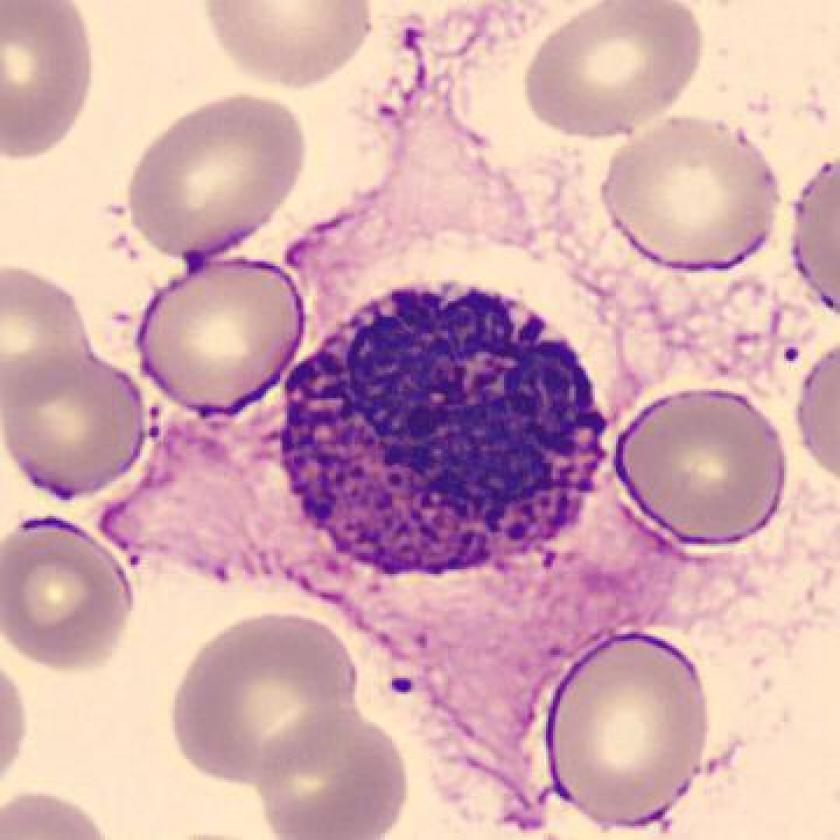basophil: (281, 281, 612, 584)
